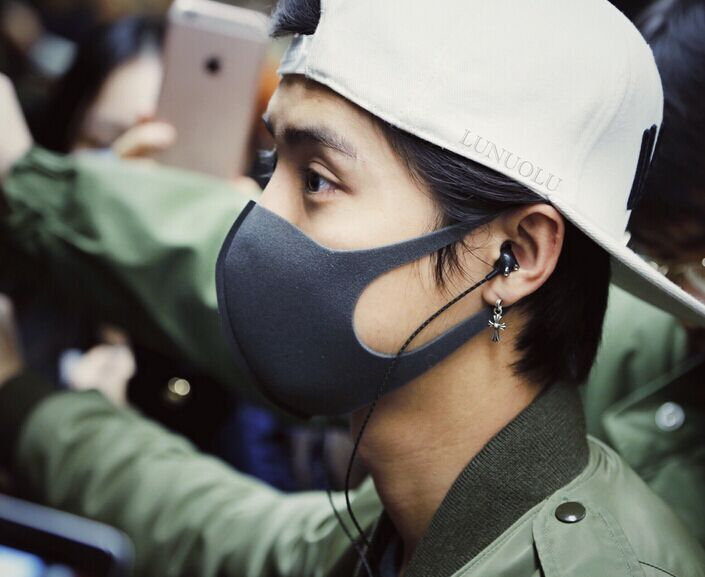face_mask: (216, 48, 452, 421)
